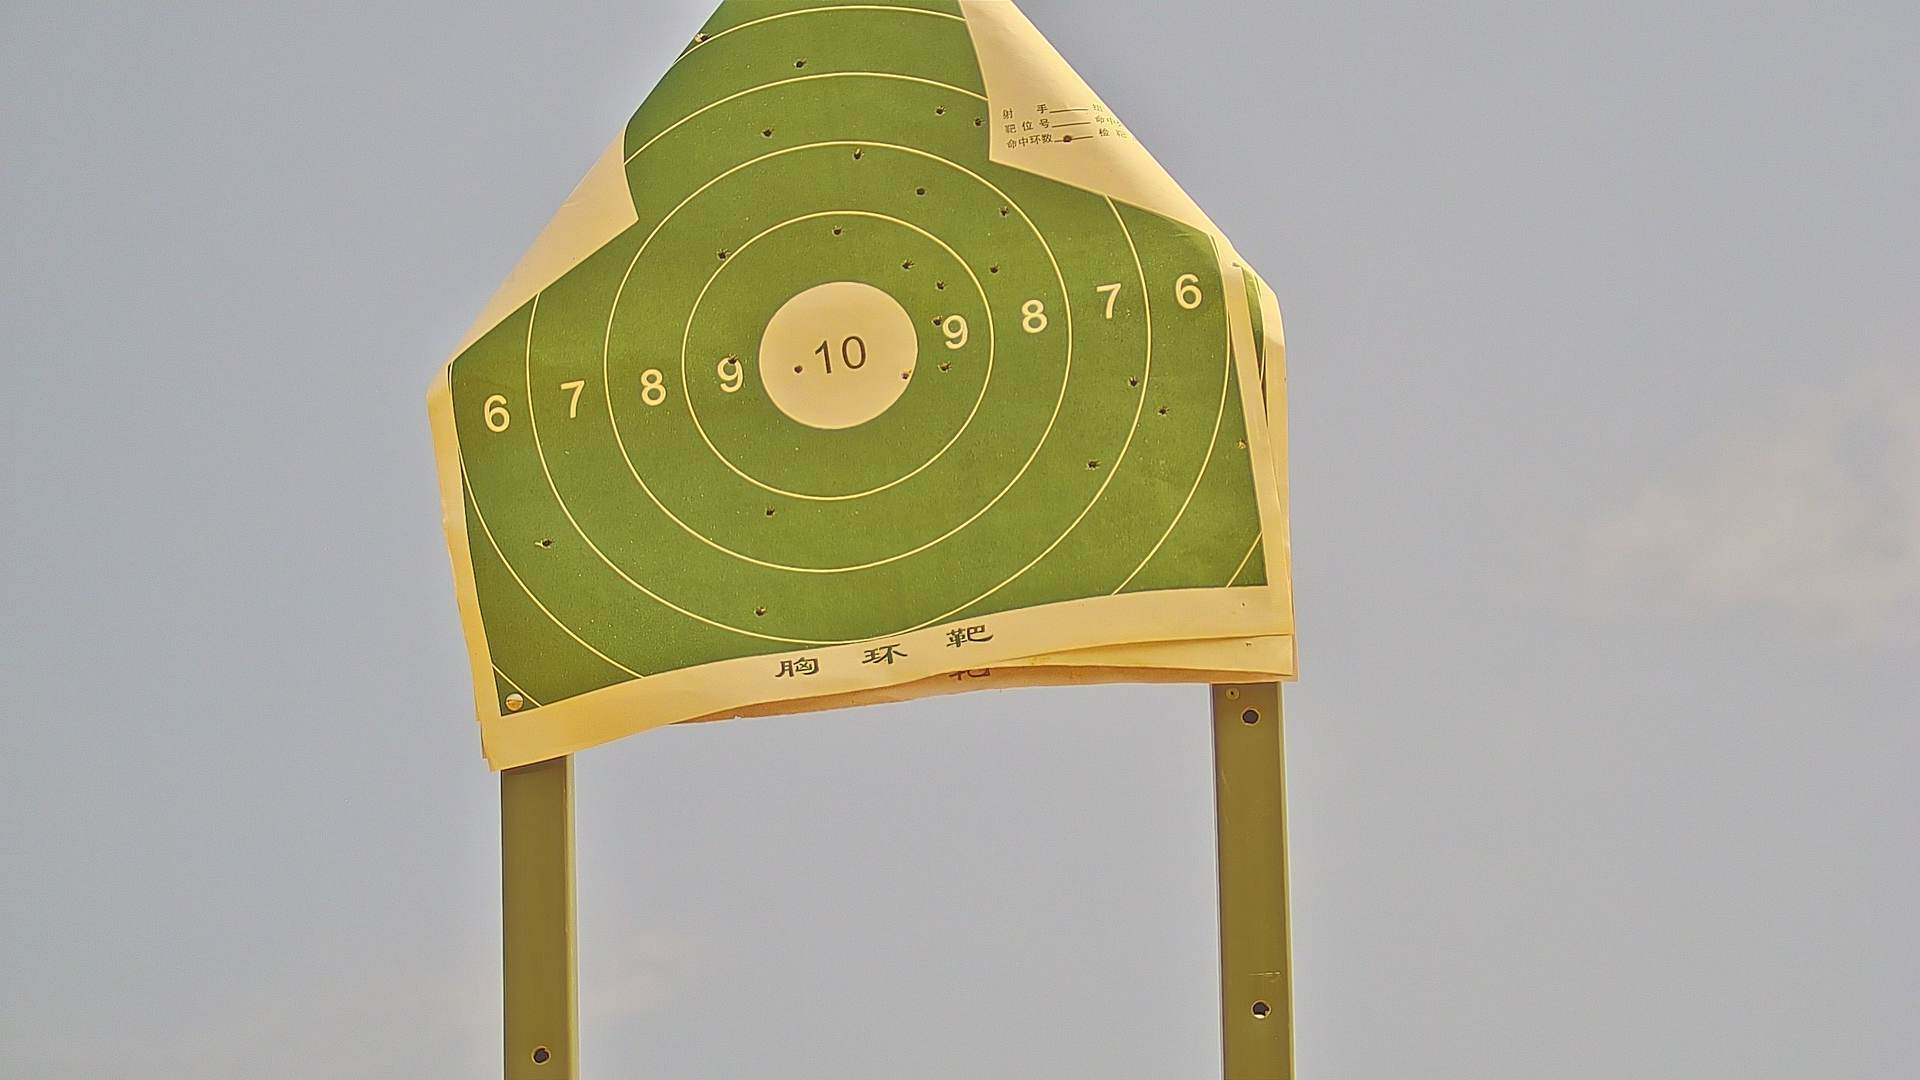hole: (1124, 371, 1143, 394), (534, 537, 558, 553), (748, 603, 769, 620), (793, 53, 810, 71), (828, 222, 845, 240), (724, 351, 742, 368), (1154, 404, 1171, 421), (971, 111, 986, 129), (913, 181, 928, 199), (936, 360, 956, 375), (932, 102, 949, 117), (715, 247, 731, 264), (851, 145, 865, 164), (935, 278, 951, 294), (931, 313, 945, 330), (898, 367, 913, 382), (1087, 455, 1102, 469), (986, 262, 1004, 276), (764, 505, 779, 518), (1000, 204, 1011, 222), (901, 257, 914, 272), (699, 33, 715, 45), (762, 123, 774, 138), (794, 361, 804, 376)
kernel: (832, 351, 848, 361)
target: (444, 5, 1273, 720)
ten: (753, 280, 919, 429)
